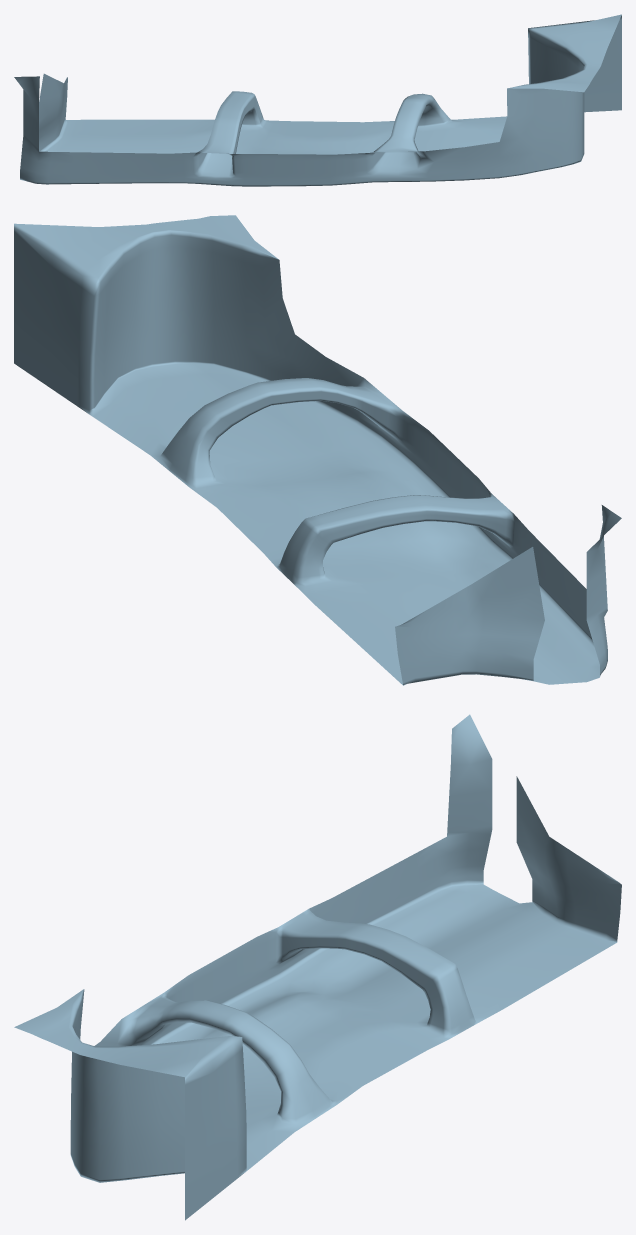
The model's file is terrain_W2A3.fbx.
3 views of the same model, one above another, from view 1: azimuth 30°, elevation 25°; view 2: azimuth 150°, elevation 25°; view 3: azimuth 270°, elevation 25° (orthographic). The views are drawn at different scales.
Parts seen in each view (by area): view 1: W2A3_mesh; view 2: W2A3_mesh; view 3: W2A3_mesh.
Part boxes in pixels (box(x1,y1,x2,y2)): W2A3_mesh: box(14, 14, 621, 186); W2A3_mesh: box(14, 215, 621, 685); W2A3_mesh: box(14, 714, 621, 1220).
Size of the model in its own units: 25201 by 5524 by 17321.
